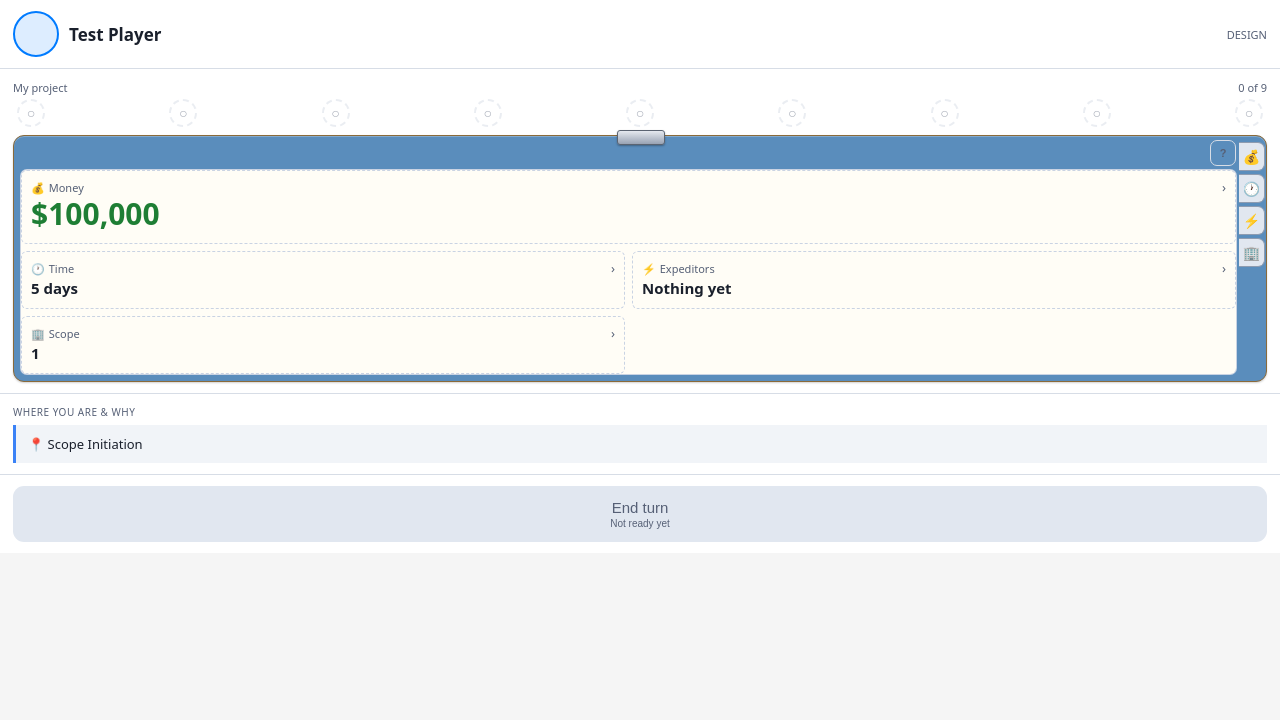
Scenario: PlayerPanelV2 — at-a-glance boxes replace "What's affecting you" (fb:adad1561) › the Scope box counts held work packages and opens the scope page
Click the button with test id "glance-scope" at (64, 333), box [21,316,625,374]
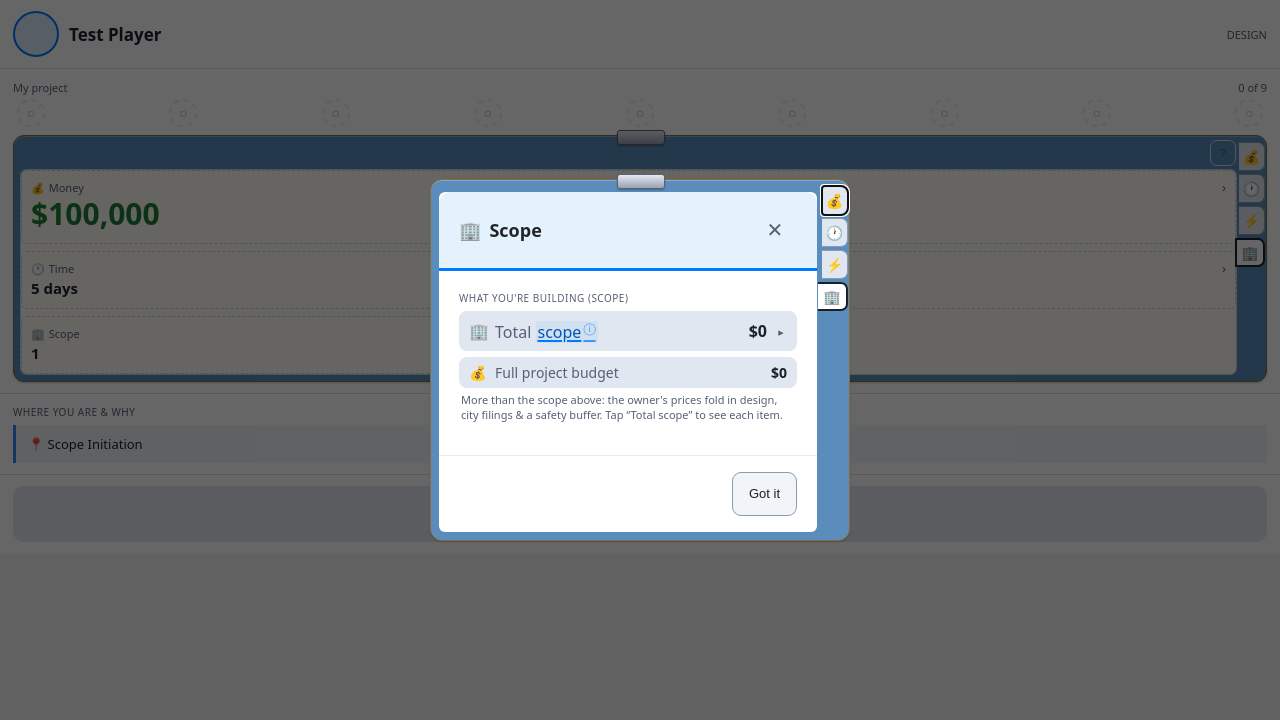
Expected: the dialog with test id "player-numbers-v2" shows "Scope", [490,218,542,242]
